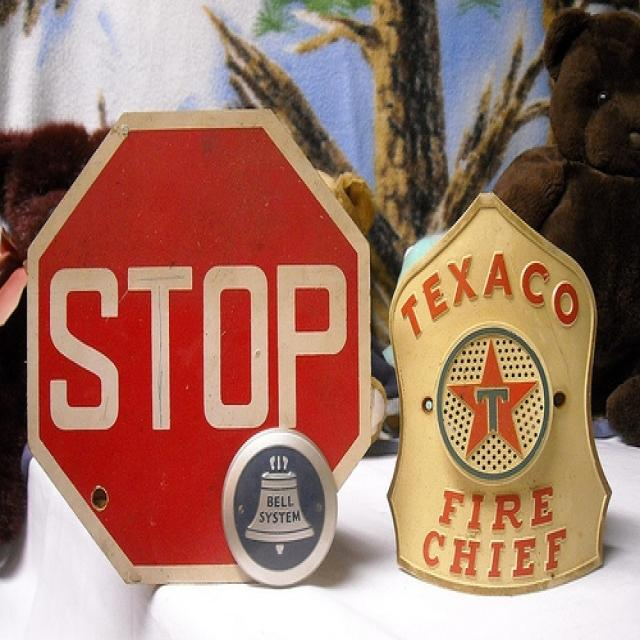texaco: (440, 331, 551, 478)
